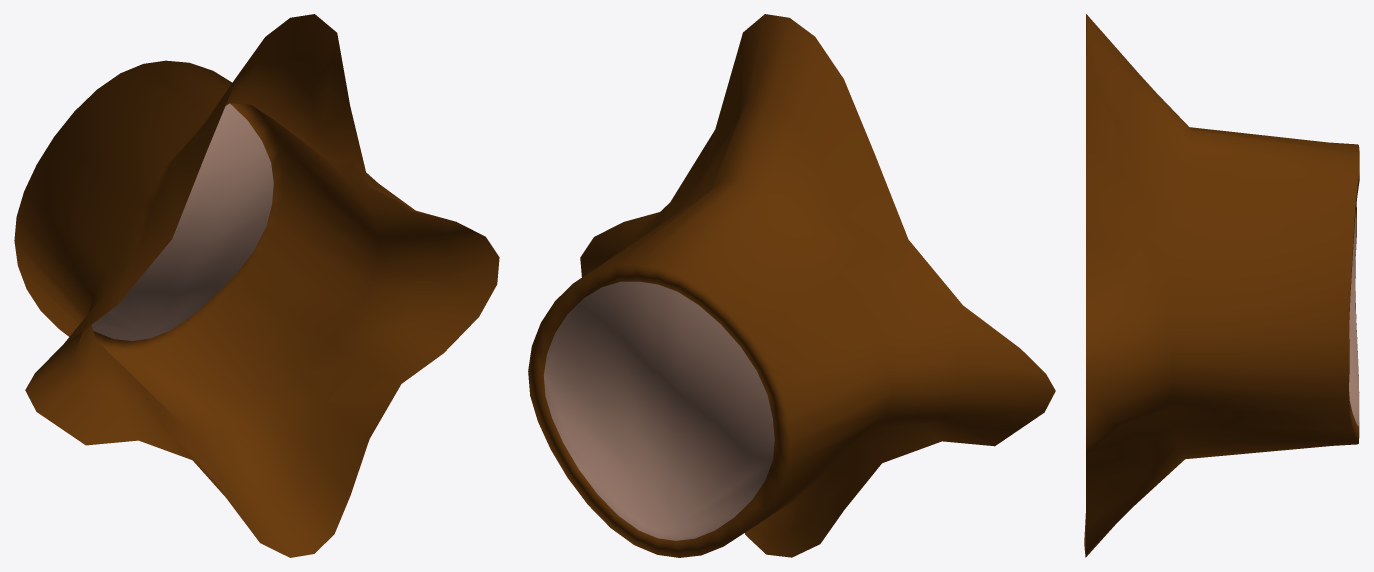
Rendered from trunk.fbx.
3 renders of one model, left to right at view 1: azimuth 30°, elevation 25°; view 2: azimuth 150°, elevation 25°; view 3: azimuth 270°, elevation 25°, orthographic.
Visible parts, largest first — view 1: tree.002; view 2: tree.002; view 3: tree.002.
Boxes of the visible parts, x1=… form: tree.002: x1=14, y1=14, x2=499, y2=557; tree.002: x1=528, y1=14, x2=1055, y2=557; tree.002: x1=1084, y1=14, x2=1359, y2=557.
Size of the model in its own units: 180 by 196 by 91.86.
